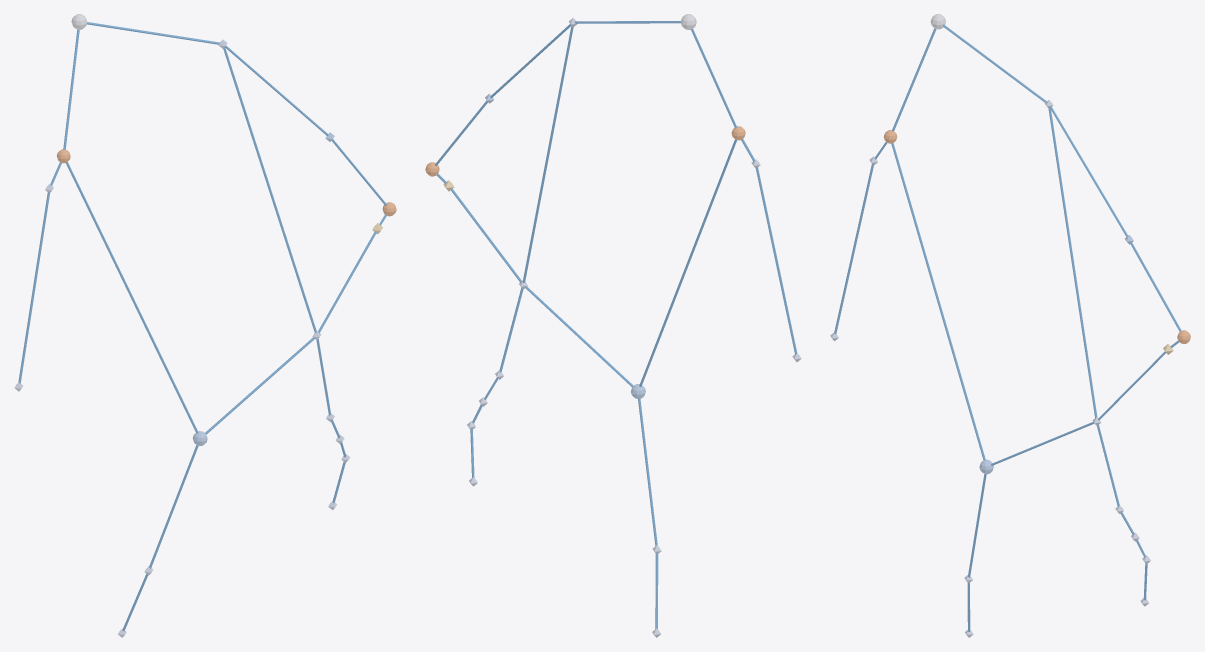
Rendered from constellation-oph.glb.
3 renders of one model, left to right at view 1: azimuth 30°, elevation 25°; view 2: azimuth 150°, elevation 25°; view 3: azimuth 330°, elevation 25°, orthographic. The views are drawn at different scales.
Bounding box in the file's own units: 2.77 × 4.42 × 0.5571.
